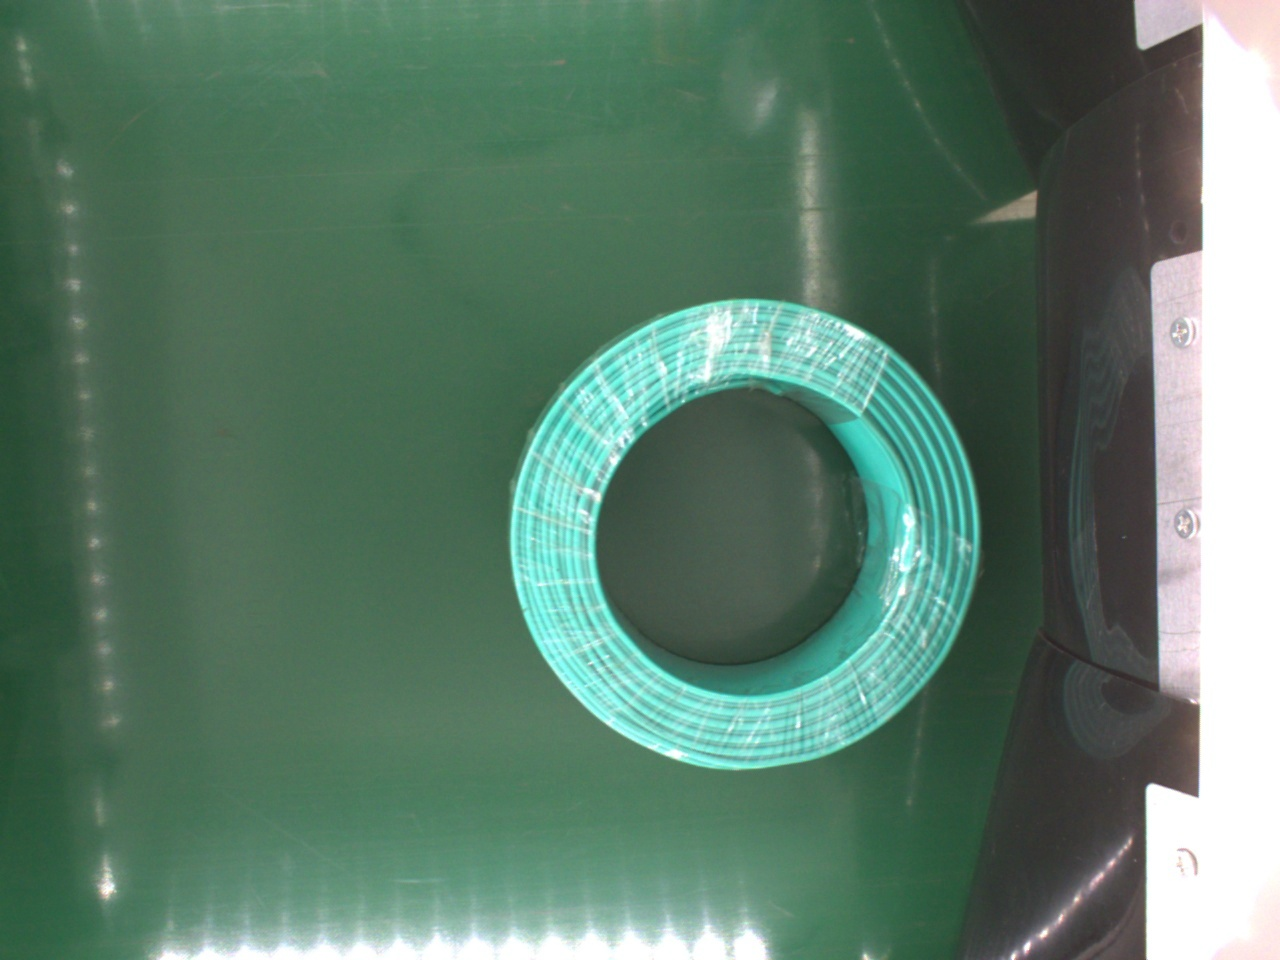green: (499, 297, 980, 773)
